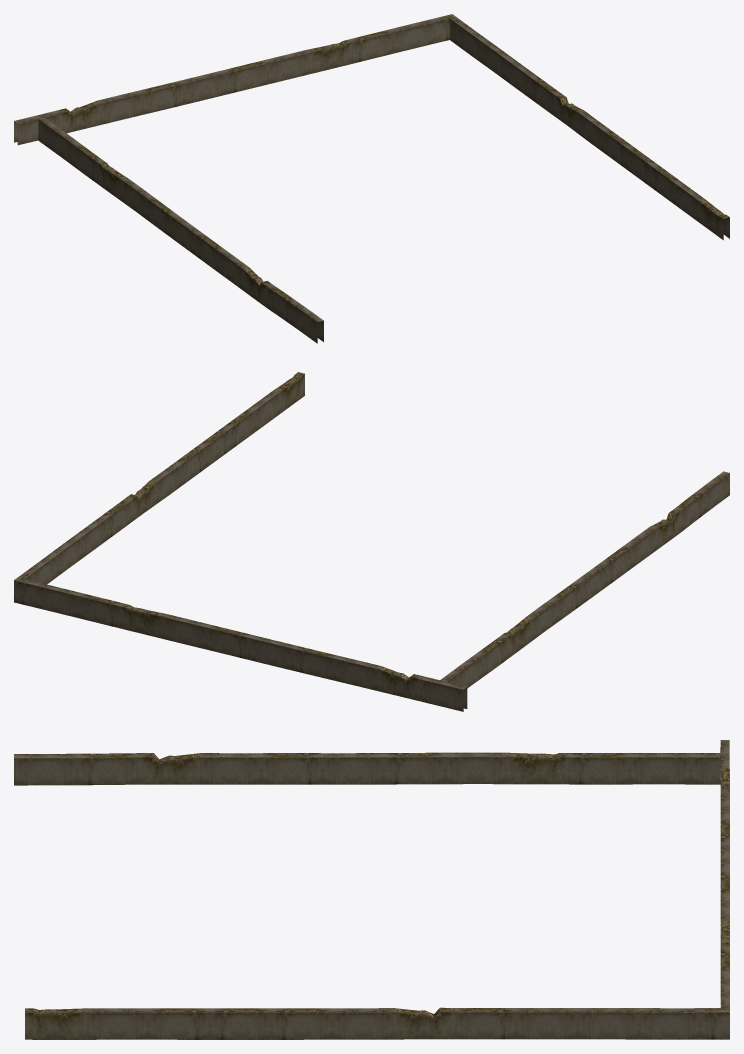
File: HammondWall2.obj
The picture shows the model from 3 angles, top to bottom: view 1: azimuth 30°, elevation 25°; view 2: azimuth 150°, elevation 25°; view 3: azimuth 270°, elevation 25°; orthographic projection. The views are drawn at different scales.
Parts seen in each view (by area): view 1: SHammondWall-00.SHammondWall-00_SHammondWall-00; view 2: SHammondWall-00.SHammondWall-00_SHammondWall-00; view 3: SHammondWall-00.SHammondWall-00_SHammondWall-00.
Part boxes in pixels (x1,y1,x2,y2): SHammondWall-00.SHammondWall-00_SHammondWall-00: (14, 14, 729, 343); SHammondWall-00.SHammondWall-00_SHammondWall-00: (14, 372, 729, 711); SHammondWall-00.SHammondWall-00_SHammondWall-00: (14, 740, 729, 1039).
Bounding box in the file's own units: 1.8 × 0.0875 × 2.
Materials: 5 (5 with a texture image).
